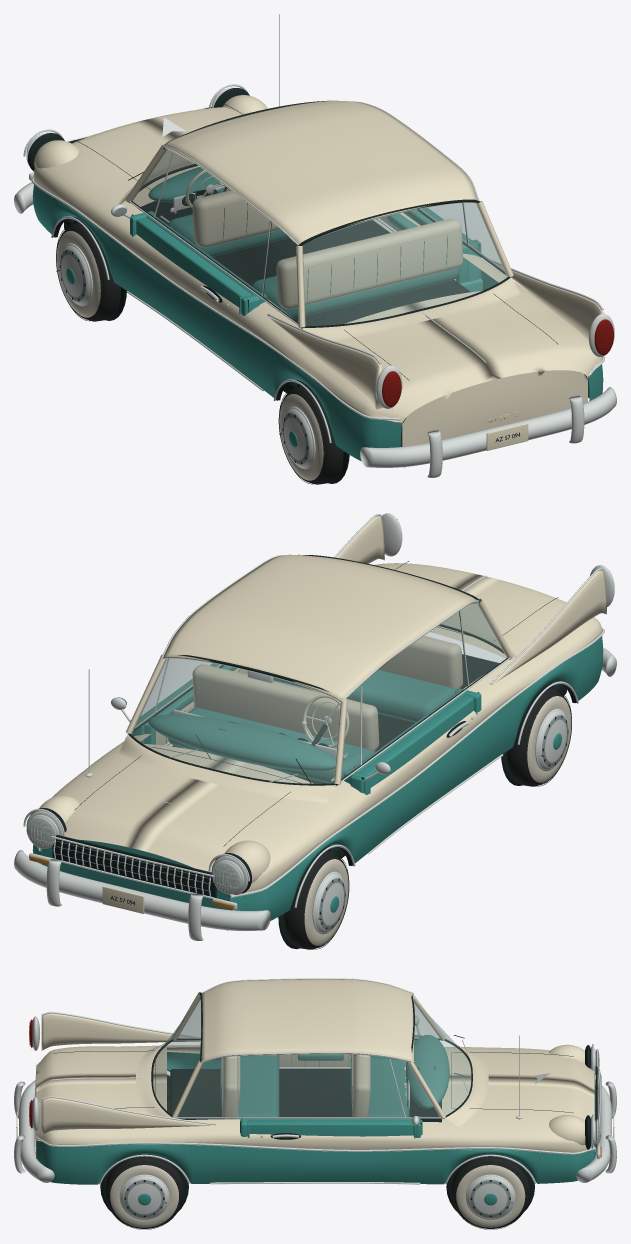
The model's file is car-drivable.glb.
3 views of the same model, one above another, from view 1: azimuth 30°, elevation 25°; view 2: azimuth 150°, elevation 25°; view 3: azimuth 270°, elevation 25° (orthographic). The views are drawn at different scales.
Visible parts, largest first — view 1: fixed Coachwork warm ivory lacquer, fixed Coachwork curved safety glass, fixed Coachwork ivory stitched vinyl, fixed Coachwork polished chromium, fixed Coachwork panel seals and shadows, door-left Coachwork curved safety glass, fixed Coachwork turquoise lacquer, door-left Coachwork turquoise lacquer, fixed Coachwork turquoise seat vinyl, door-left Coachwork warm ivory lacquer, wheel-left-front Coachwork vulcanized tire rubber, wheel-left-rear Coachwork vulcanized tire rubber (+8 smaller); view 2: fixed Coachwork warm ivory lacquer, fixed Coachwork curved safety glass, fixed Coachwork polished chromium, fixed Coachwork turquoise seat vinyl, fixed Coachwork ivory stitched vinyl, fixed Coachwork turquoise lacquer, door-left Coachwork curved safety glass, fixed Coachwork panel seals and shadows, door-left Coachwork turquoise lacquer, door-left Coachwork warm ivory lacquer, door-right Coachwork curved safety glass, wheel-left-front Coachwork vulcanized tire rubber (+8 smaller); view 3: fixed Coachwork warm ivory lacquer, door-right Coachwork curved safety glass, fixed Coachwork turquoise lacquer, fixed Coachwork curved safety glass, fixed Coachwork panel seals and shadows, fixed Coachwork polished chromium, door-right Coachwork turquoise lacquer, fixed Coachwork turquoise seat vinyl, door-right Coachwork warm ivory lacquer, fixed Coachwork ivory stitched vinyl, wheel-right-front Coachwork warm whitewall rubber, wheel-right-rear Coachwork warm whitewall rubber (+11 smaller).
Part boxes in pixels (bbox=[...]): fixed Coachwork warm ivory lacquer: bbox=[33, 95, 604, 450]; fixed Coachwork curved safety glass: bbox=[143, 150, 508, 325]; fixed Coachwork ivory stitched vinyl: bbox=[192, 190, 462, 308]; fixed Coachwork polished chromium: bbox=[14, 14, 616, 477]; fixed Coachwork panel seals and shadows: bbox=[28, 88, 558, 483]; door-left Coachwork curved safety glass: bbox=[132, 148, 269, 295]; fixed Coachwork turquoise lacquer: bbox=[32, 184, 603, 467]; door-left Coachwork turquoise lacquer: bbox=[122, 217, 259, 372]; fixed Coachwork turquoise seat vinyl: bbox=[148, 167, 459, 318]; door-left Coachwork warm ivory lacquer: bbox=[123, 228, 270, 328]; wheel-left-front Coachwork vulcanized tire rubber: bbox=[56, 222, 120, 321]; wheel-left-rear Coachwork vulcanized tire rubber: bbox=[278, 385, 343, 484]; fixed Coachwork warm ivory lacquer: bbox=[39, 516, 606, 913]; fixed Coachwork curved safety glass: bbox=[130, 602, 507, 783]; fixed Coachwork polished chromium: bbox=[14, 513, 616, 940]; fixed Coachwork turquoise seat vinyl: bbox=[148, 670, 456, 783]; fixed Coachwork ivory stitched vinyl: bbox=[192, 636, 462, 751]; fixed Coachwork turquoise lacquer: bbox=[32, 636, 603, 930]; door-left Coachwork curved safety glass: bbox=[341, 612, 467, 778]; fixed Coachwork panel seals and shadows: bbox=[30, 555, 576, 949]; door-left Coachwork turquoise lacquer: bbox=[350, 694, 486, 850]; door-left Coachwork warm ivory lacquer: bbox=[341, 705, 485, 810]; door-right Coachwork curved safety glass: bbox=[135, 658, 220, 728]; wheel-left-front Coachwork vulcanized tire rubber: bbox=[284, 850, 349, 949]; fixed Coachwork warm ivory lacquer: bbox=[16, 979, 614, 1157]; door-right Coachwork curved safety glass: bbox=[238, 1054, 439, 1116]; fixed Coachwork turquoise lacquer: bbox=[36, 1035, 595, 1184]; fixed Coachwork curved safety glass: bbox=[153, 996, 471, 1116]; fixed Coachwork panel seals and shadows: bbox=[53, 993, 597, 1211]; fixed Coachwork polished chromium: bbox=[14, 978, 616, 1184]; door-right Coachwork turquoise lacquer: bbox=[237, 1120, 424, 1179]; fixed Coachwork turquoise seat vinyl: bbox=[220, 1035, 449, 1119]; door-right Coachwork warm ivory lacquer: bbox=[237, 1119, 424, 1149]; fixed Coachwork ivory stitched vinyl: bbox=[221, 1054, 370, 1119]; wheel-right-front Coachwork warm whitewall rubber: bbox=[456, 1165, 525, 1227]; wheel-right-rear Coachwork warm whitewall rubber: bbox=[110, 1165, 178, 1227].
Bounding box in the file's own units: 2.29 × 1.88 × 5.51.
